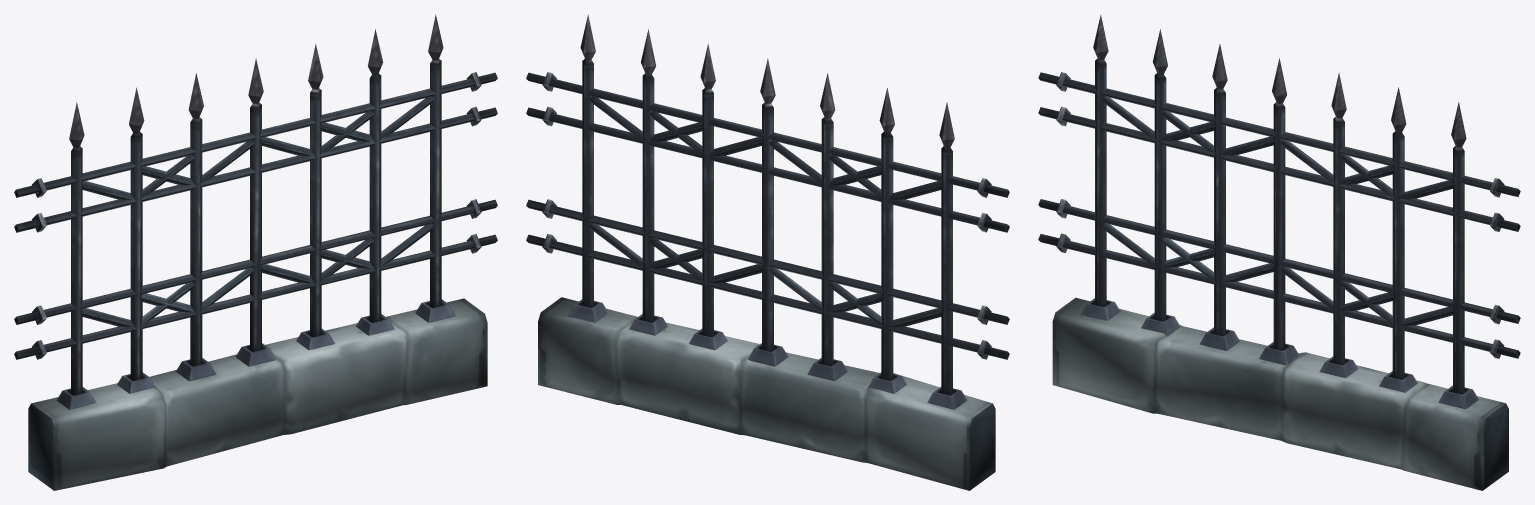
The model's file is env_cem_verja_01.FBX.
3 renders of one model, left to right at view 1: azimuth 30°, elevation 25°; view 2: azimuth 150°, elevation 25°; view 3: azimuth 330°, elevation 25°, orthographic.
Visible parts, largest first — view 1: env_cem_verja_01; view 2: env_cem_verja_01; view 3: env_cem_verja_01.
Boxes of the visible parts, bbox=[...] form: env_cem_verja_01: bbox=[14, 14, 497, 490]; env_cem_verja_01: bbox=[526, 14, 1009, 490]; env_cem_verja_01: bbox=[1038, 14, 1520, 490].
Size of the model in its own units: 660 by 488 by 72.12.
